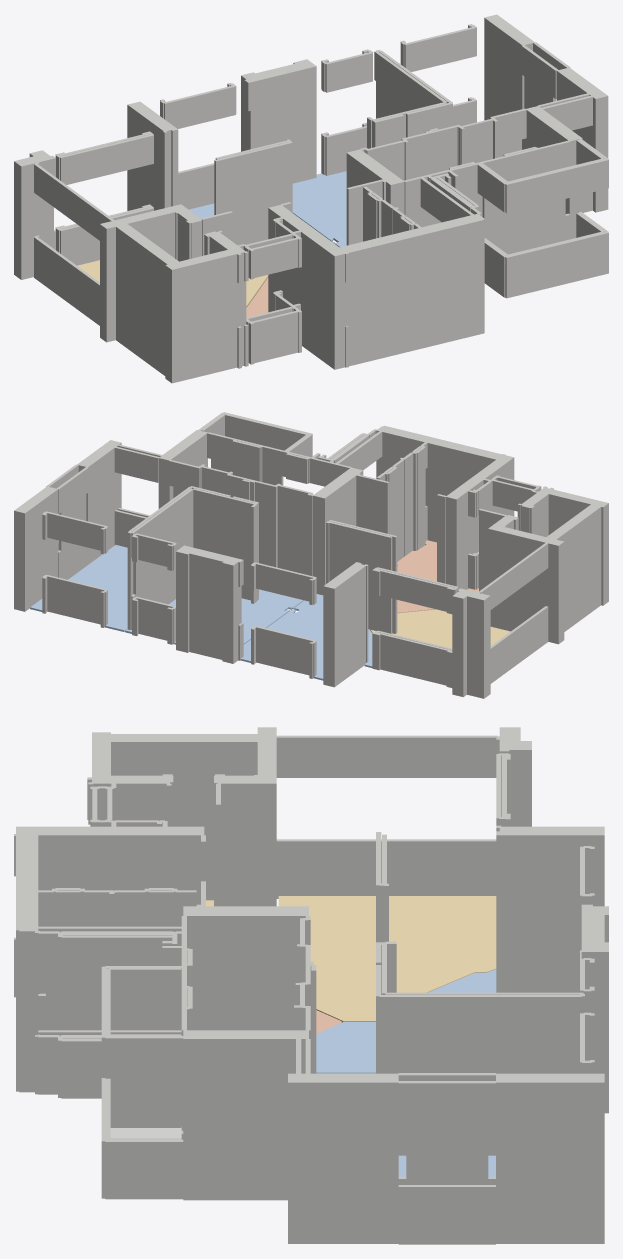
3 renders of one model, top to bottom at view 1: azimuth 30°, elevation 25°; view 2: azimuth 150°, elevation 25°; view 3: azimuth 270°, elevation 25°, orthographic. The views are drawn at different scales.
Parts seen in each view (by area): view 1: walls, room:bedroom:2, room:living:0, room:kitchen:5; view 2: walls, room:bedroom:7, room:bedroom:1, room:living:0, room:bedroom:2, room:kitchen:5; view 3: walls, room:living:0, room:bedroom:1, room:ledge:9.
Boxes of the visible parts, box(x1,y1,x2,y2) form: walls: box(14, 14, 608, 383); room:bedroom:2: box(292, 171, 346, 247); room:living:0: box(77, 260, 268, 307); room:kitchen:5: box(246, 277, 268, 317); walls: box(14, 412, 608, 698); room:bedroom:7: box(30, 545, 127, 631); room:bedroom:1: box(240, 594, 372, 680); room:living:0: box(370, 609, 510, 648); room:bedroom:2: box(125, 589, 303, 644); room:kitchen:5: box(397, 540, 478, 613); walls: box(14, 727, 608, 1244); room:living:0: box(206, 896, 496, 1022); room:bedroom:1: box(316, 969, 496, 1073); room:ledge:9: box(110, 1127, 181, 1139).
Bounding box in the file's own units: 13.25 × 2.8 × 9.36.
